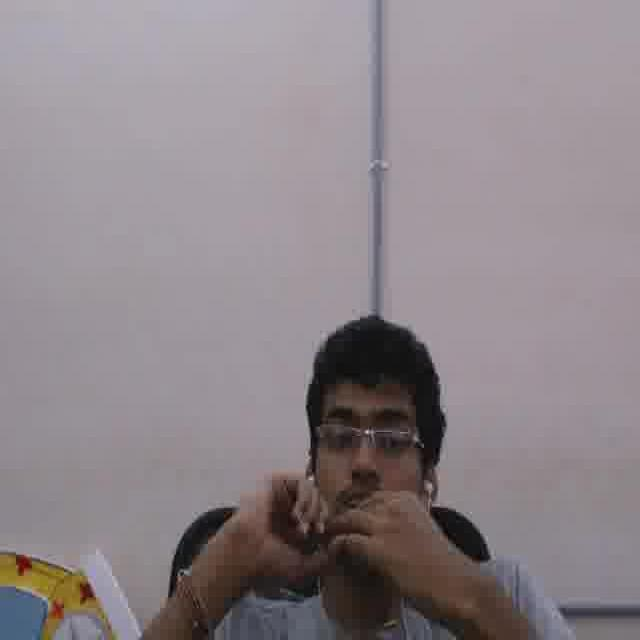Boredom: (314, 372, 432, 560)
